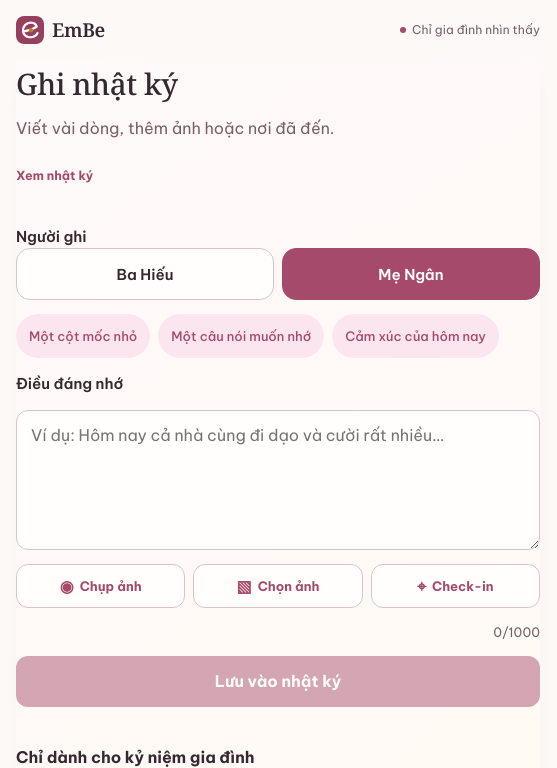
Test case: one-handed family journal › offers quick prompts without writing a fictional family memory
Click the button "Một cột mốc nhỏ": (83, 336) [16,314,150,358]
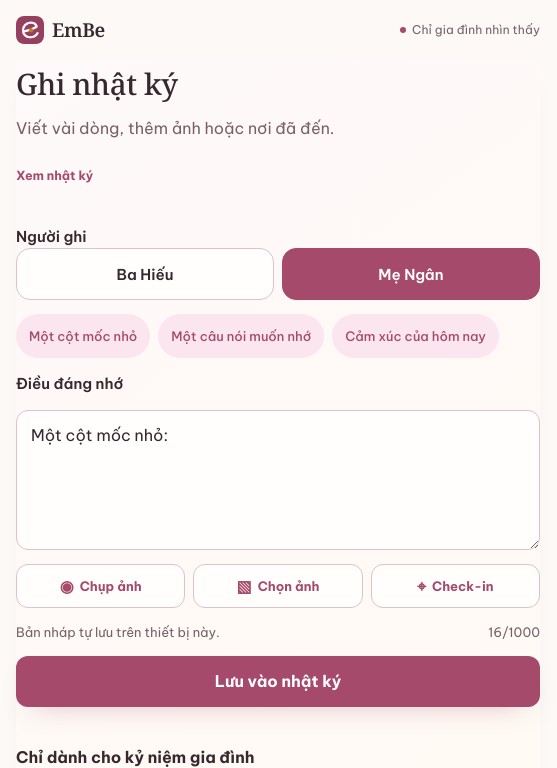
Expected: the text box labelled "Điều đáng nhớ" holds "Một cột mốc nhỏ: ", [16,410,540,550]
